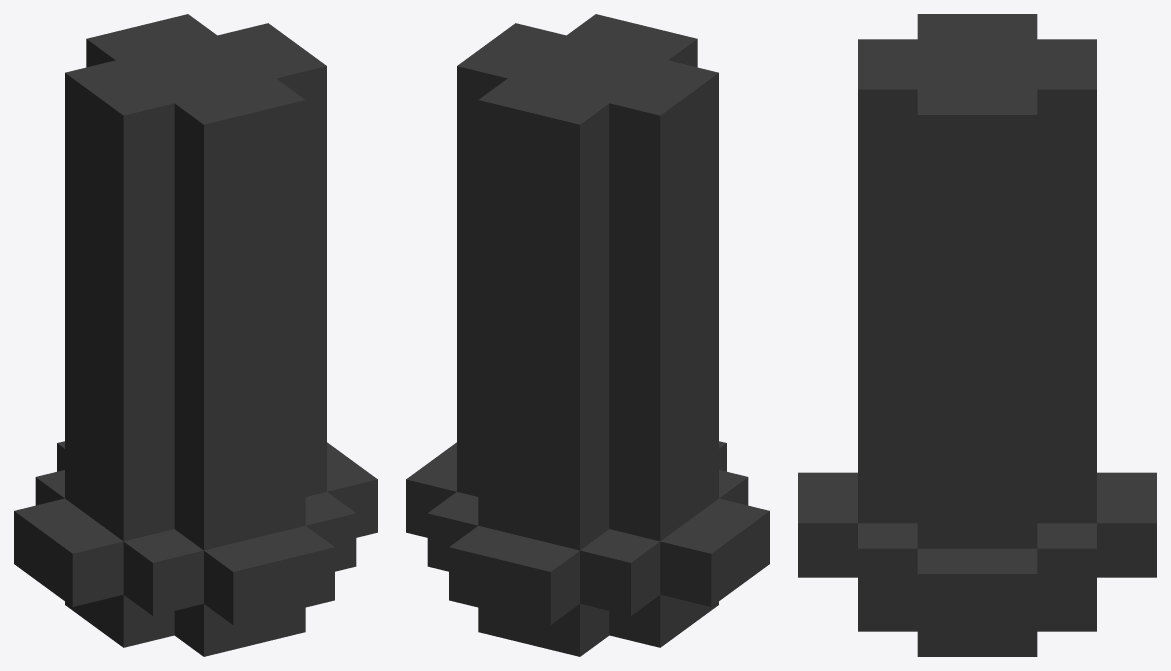
File: PipingStraight.obj
3 views of the same model, side by side, from view 1: azimuth 30°, elevation 25°; view 2: azimuth 150°, elevation 25°; view 3: azimuth 270°, elevation 25° (orthographic).
Size of the model in its own units: 0.6 by 1 by 0.6.
Materials: 1 (1 with a texture image).
